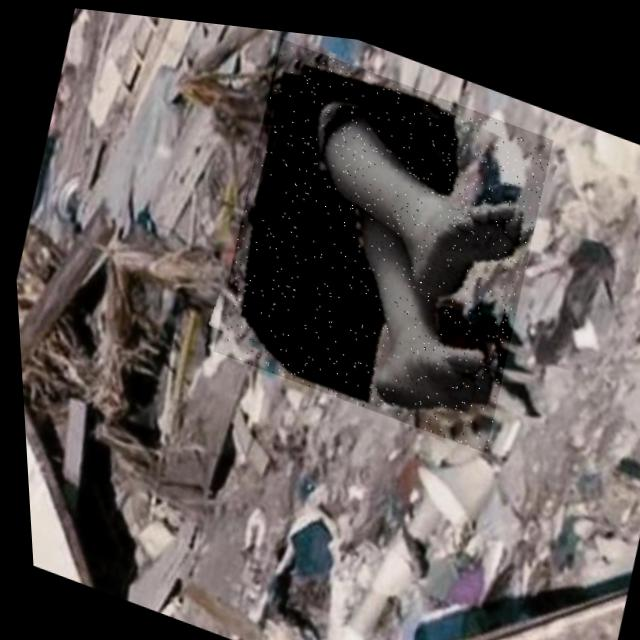Person in Rubble: (194, 22, 567, 448)
